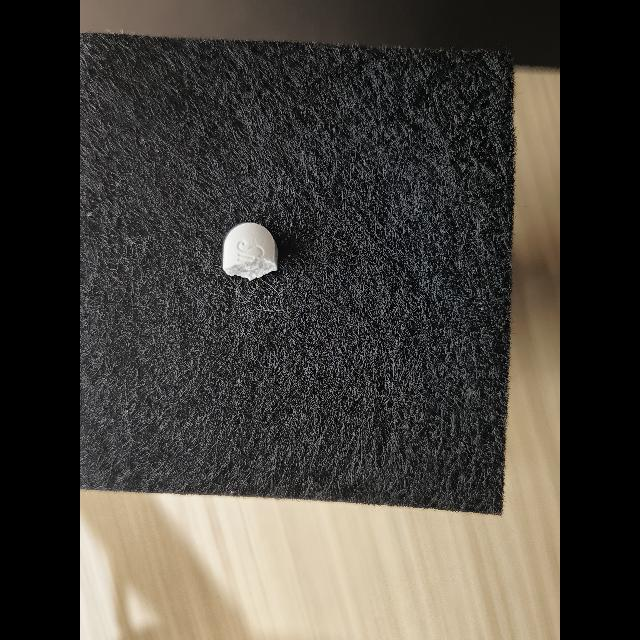Chipped Pill: (223, 223, 278, 281)
